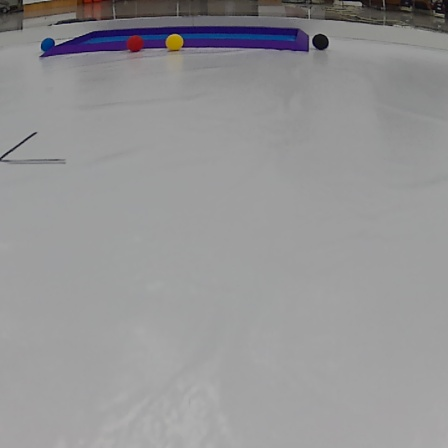black: (313, 32, 330, 50)
blue: (42, 37, 59, 50)
blue_aim: (41, 26, 310, 53)
red: (124, 36, 145, 53)
yellow: (168, 36, 183, 49)
